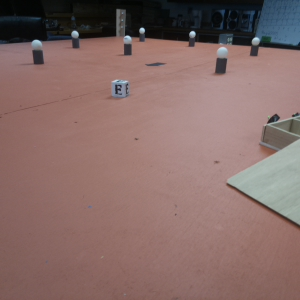blockE: (112, 79, 133, 98)
corner: (114, 7, 127, 40)
obstacle: (30, 40, 47, 66), (215, 46, 229, 74), (249, 37, 261, 57), (122, 35, 132, 57), (71, 31, 82, 48), (188, 31, 197, 48), (140, 28, 147, 43)
side: (256, 110, 300, 151)
slope: (226, 137, 300, 231)
start: (146, 62, 168, 70)
